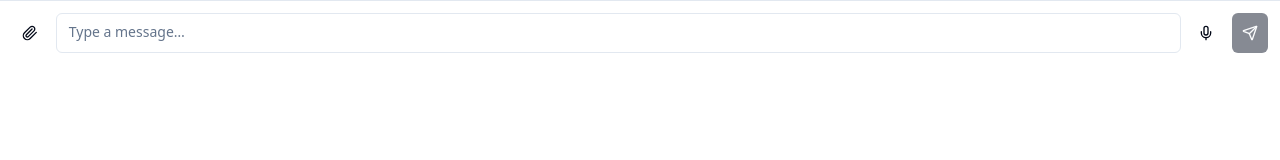
WhatsApp replies › preserves a failed draft and its request identity, clearing only a confirmed send
This screenshot has width=1280, height=160.
Type "Customer reply" into the text box at (618,33), box [56,13,1180,53]
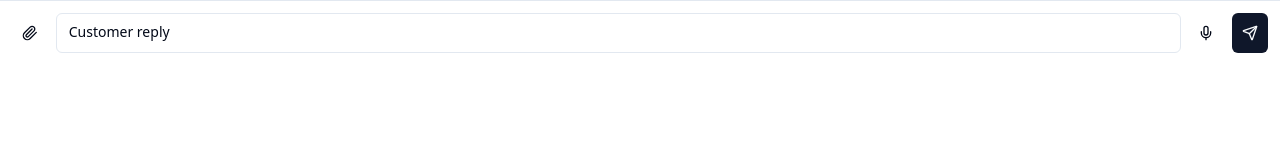
Press Enter in the text box, box [56,13,1180,53]
Press Enter in the text box, box [56,13,1180,53]
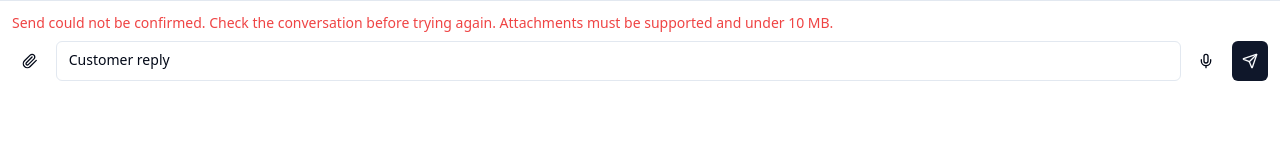
Result: the message is shown at [12,13,833,32]
Click the button named "Send" at (1250,61), box [1232,41,1268,81]
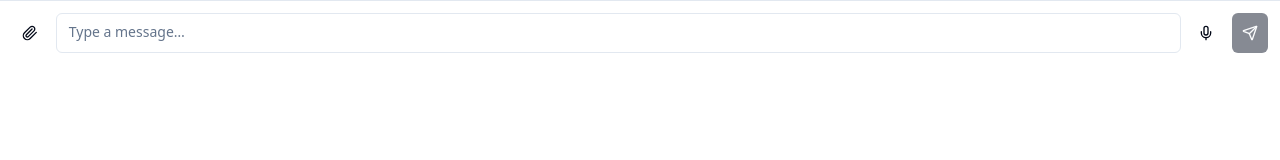
Result: the text box is empty at [56,13,1180,53]
